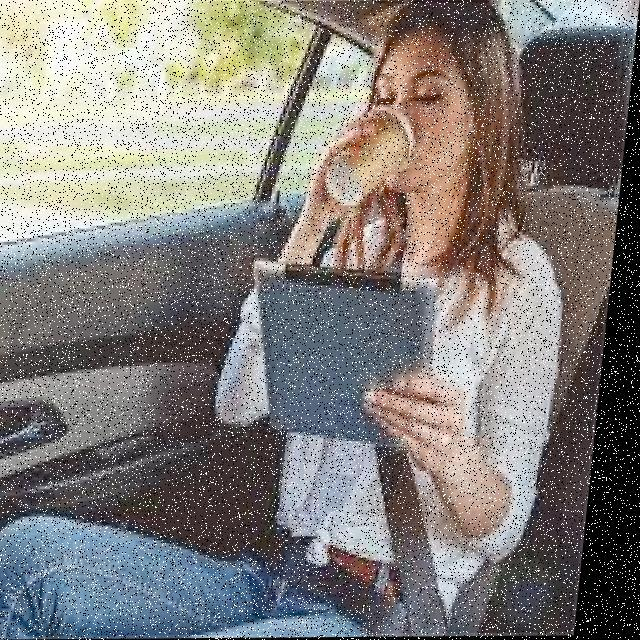seatbelt: (258, 380, 502, 638)
